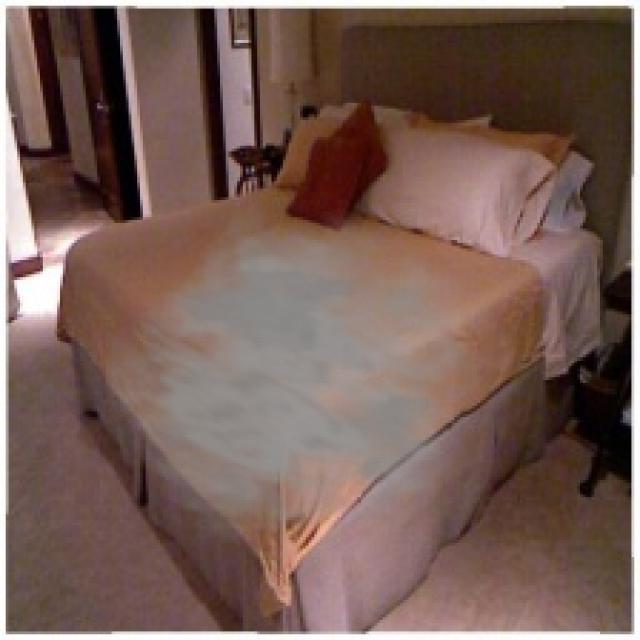Smoke: (103, 197, 520, 543)
